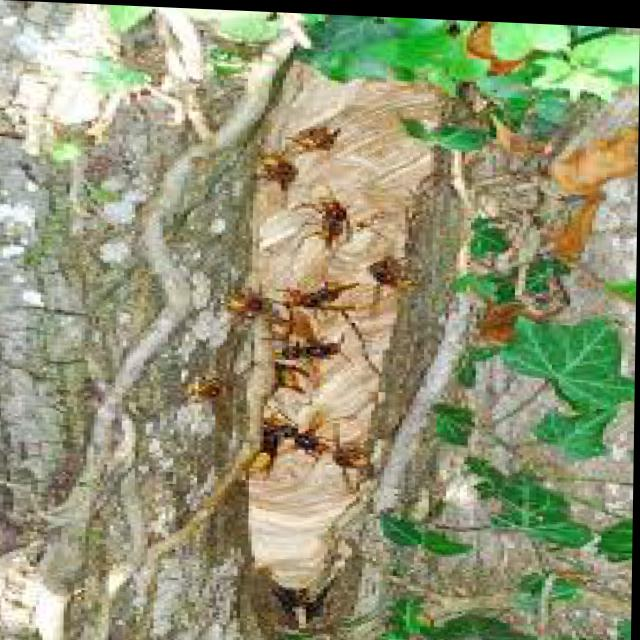Vespa Crabro: (275, 325, 368, 387), (327, 415, 395, 493), (284, 266, 368, 322), (301, 187, 371, 248), (237, 139, 294, 199), (216, 274, 282, 318), (250, 406, 294, 471), (282, 406, 330, 462), (283, 118, 354, 153)
